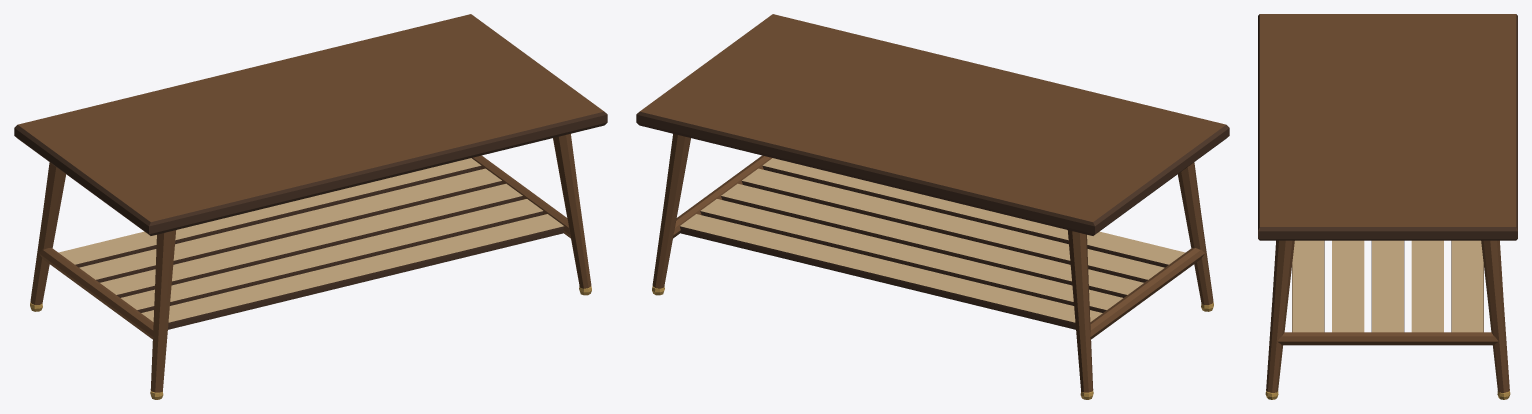
File: FN_Table_Coffee.glb
3 renders of one model, left to right at view 1: azimuth 30°, elevation 25°; view 2: azimuth 150°, elevation 25°; view 3: azimuth 270°, elevation 25°, orthographic. The views are drawn at different scales.
Parts seen in each view (by area): view 1: FN_Table_Coffee; view 2: FN_Table_Coffee; view 3: FN_Table_Coffee.
Part boxes in pixels (x1=…): FN_Table_Coffee: x1=14, y1=14, x2=607, y2=399; FN_Table_Coffee: x1=636, y1=14, x2=1229, y2=399; FN_Table_Coffee: x1=1258, y1=14, x2=1517, y2=399.
Bounding box in the file's own units: 1.1 × 0.42 × 0.56.
Materials: 1 (1 with a texture image).
